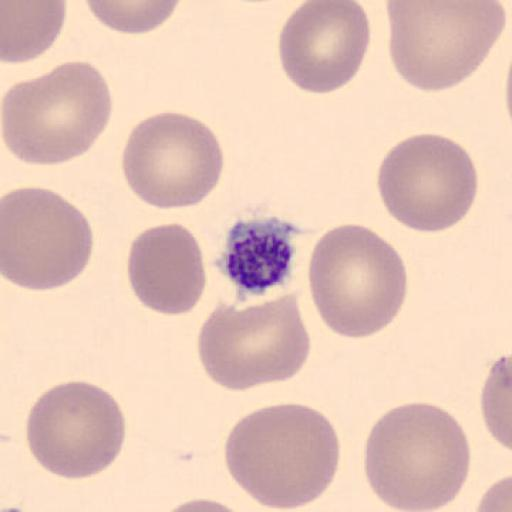Platelet: (213, 214, 299, 302)
RBC: (223, 400, 342, 510), (362, 399, 471, 512), (306, 221, 409, 340), (2, 60, 115, 166), (196, 291, 310, 392), (385, 0, 507, 92), (376, 132, 480, 235), (25, 378, 127, 482), (121, 110, 225, 212), (2, 185, 95, 292), (278, 0, 372, 96), (126, 221, 207, 316), (2, 0, 68, 65), (83, 0, 183, 35), (479, 351, 512, 454), (152, 495, 256, 512), (475, 472, 512, 512), (503, 40, 512, 136), (505, 60, 512, 152)
